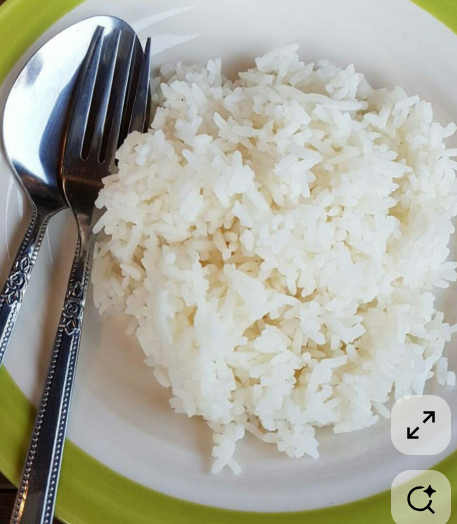makanan_berpati: (173, 92, 402, 391)
